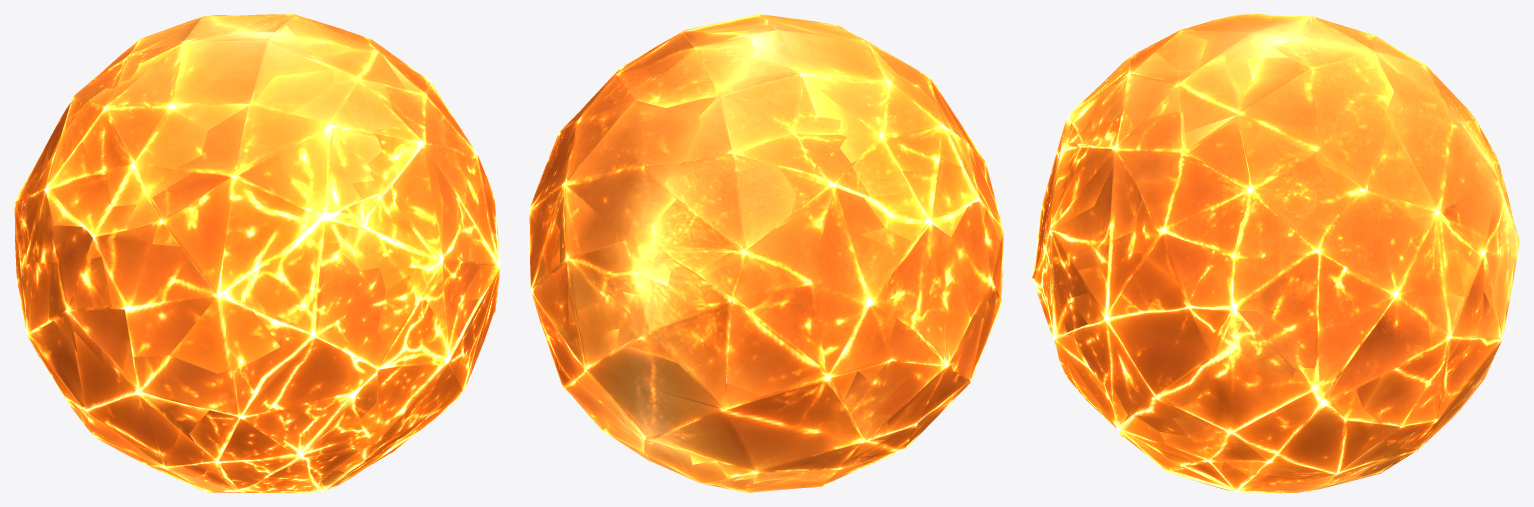
Rendered from sun_low_poly.glb.
3 renders of one model, left to right at view 1: azimuth 30°, elevation 25°; view 2: azimuth 150°, elevation 25°; view 3: azimuth 270°, elevation 25°, orthographic. The views are drawn at different scales.
Parts seen in each view (by area): view 1: tripo_node_51440f0a-9861-426f-901e-5329e143d587; view 2: tripo_node_51440f0a-9861-426f-901e-5329e143d587; view 3: tripo_node_51440f0a-9861-426f-901e-5329e143d587.
Boxes of the visible parts, x1=… form: tripo_node_51440f0a-9861-426f-901e-5329e143d587: x1=14, y1=14, x2=500, y2=492; tripo_node_51440f0a-9861-426f-901e-5329e143d587: x1=529, y1=14, x2=1003, y2=492; tripo_node_51440f0a-9861-426f-901e-5329e143d587: x1=1032, y1=14, x2=1519, y2=492.
Size of the model in its own units: 0.9751 by 0.9789 by 0.981.
2 materials, 1 textured.
